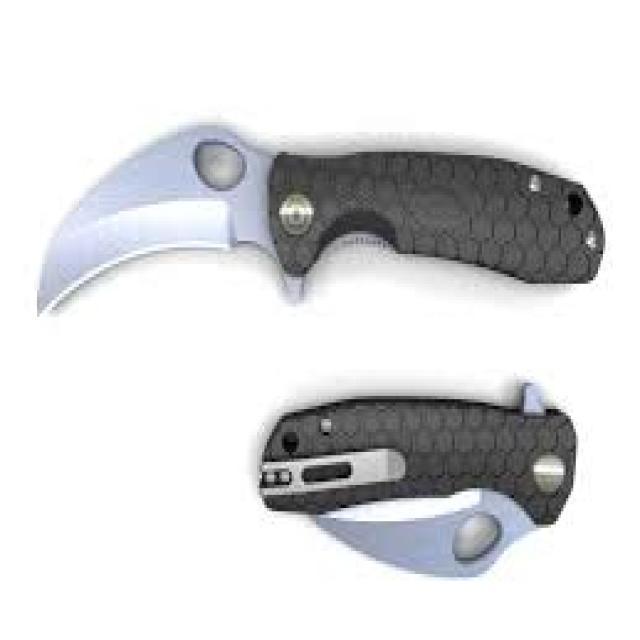knives: (30, 115, 608, 324), (252, 376, 581, 581)
